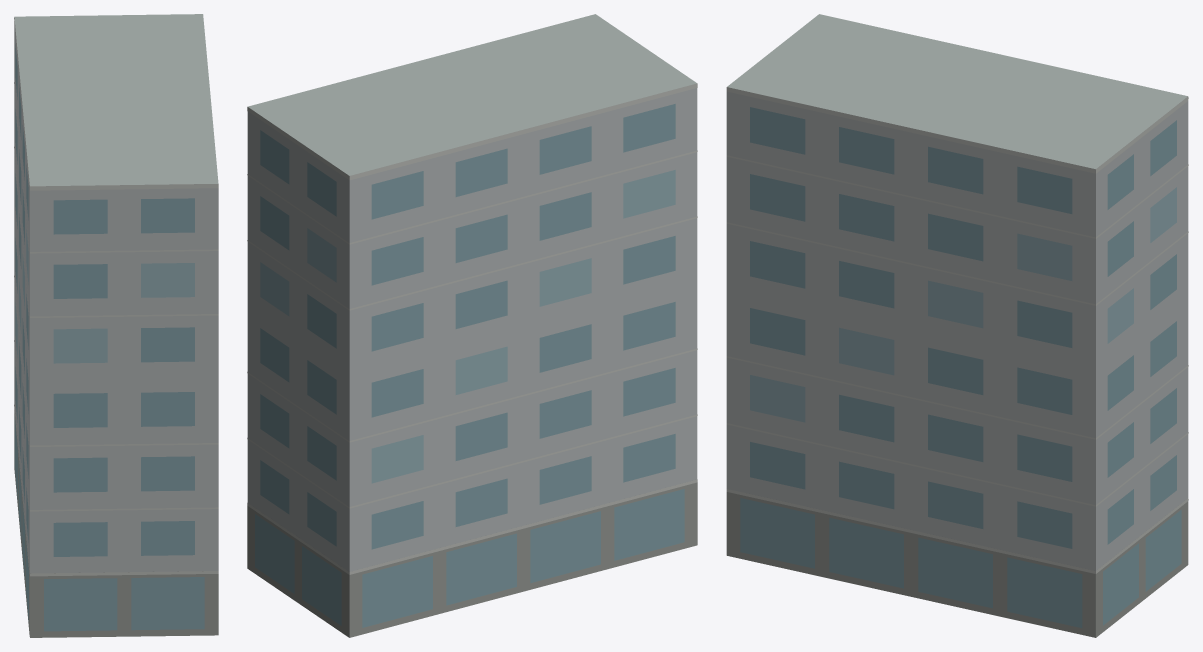
The model's file is survey-upis-32939896.glb.
The picture shows the model from 3 angles, left to right: view 1: azimuth 30°, elevation 25°; view 2: azimuth 150°, elevation 25°; view 3: azimuth 270°, elevation 25°; orthographic projection. The views are drawn at different scales.
Visible parts, largest first — view 1: survey-upis-32939896.tmp; view 2: survey-upis-32939896.tmp; view 3: survey-upis-32939896.tmp.
Boxes of the visible parts, left/top/right/bottom form: survey-upis-32939896.tmp: left=14, top=14, right=218, bottom=637; survey-upis-32939896.tmp: left=247, top=14, right=697, bottom=637; survey-upis-32939896.tmp: left=726, top=14, right=1188, bottom=637.
Bounding box in the file's own units: 17.75 × 24.95 × 22.29.
